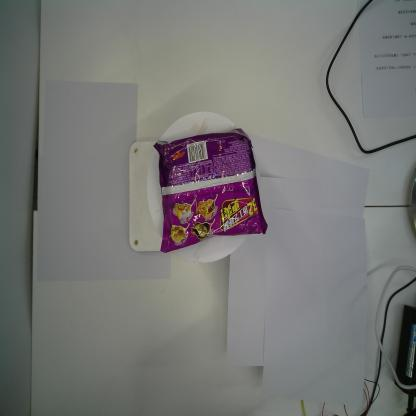Instant Noodles: (150, 127, 268, 252)
